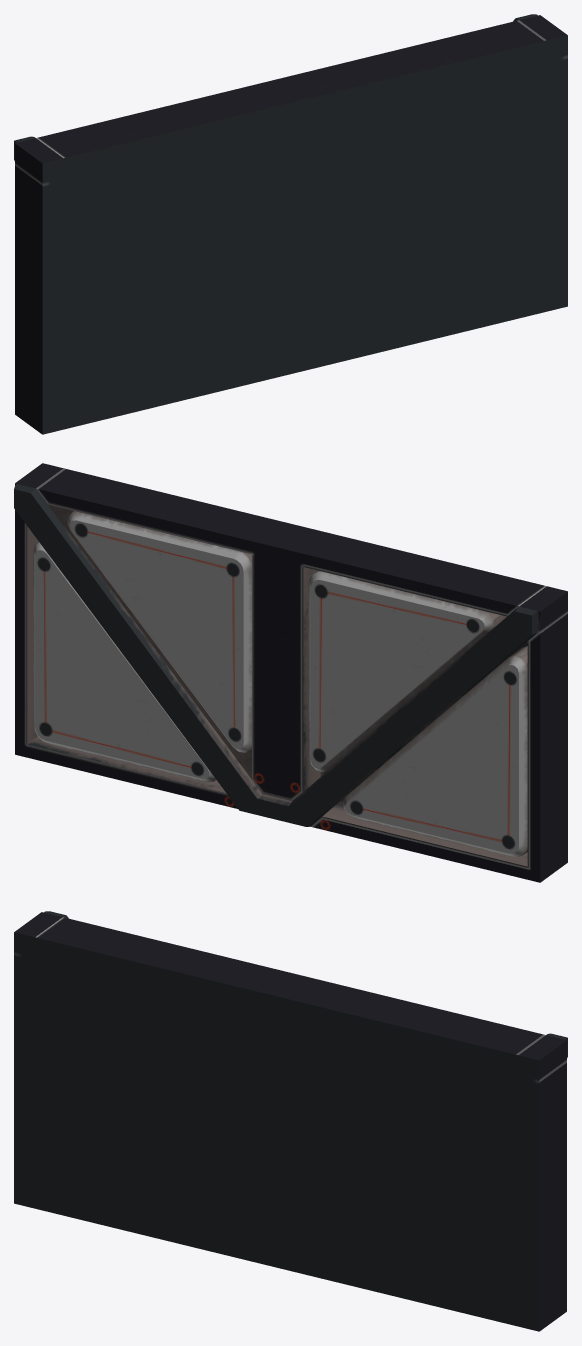
The model's file is Interior2_panel_SciFi_2_BS.fbx.
The picture shows the model from 3 angles, top to bottom: view 1: azimuth 30°, elevation 25°; view 2: azimuth 150°, elevation 25°; view 3: azimuth 330°, elevation 25°; orthographic projection.
Visible parts, largest first — view 1: Interior2_panel_SciFi_2_BS; view 2: Interior2_panel_SciFi_2_BS; view 3: Interior2_panel_SciFi_2_BS.
Part boxes in pixels (box(x1,y1,x2,y2)): Interior2_panel_SciFi_2_BS: box(14, 14, 567, 434); Interior2_panel_SciFi_2_BS: box(14, 463, 567, 882); Interior2_panel_SciFi_2_BS: box(14, 911, 567, 1331).
Bounding box in the file's own units: 398 × 196 × 42.25.
Materials: 1 (1 with a texture image).
